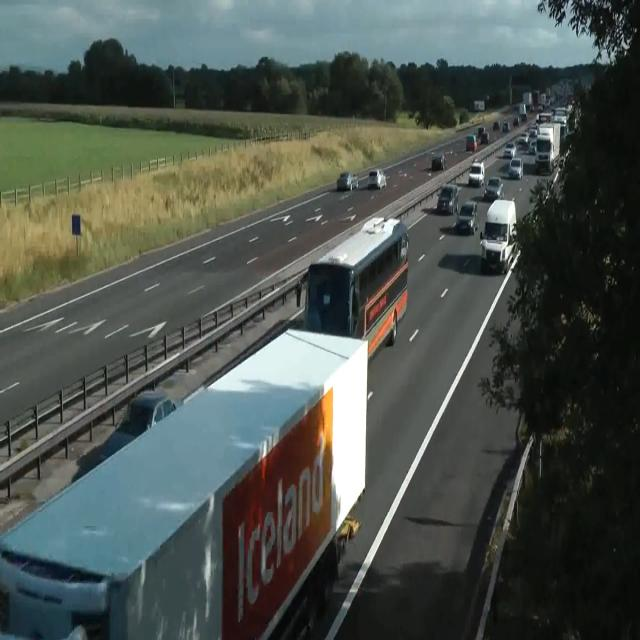bus: (71, 388, 178, 484), (336, 172, 358, 191), (368, 169, 386, 189), (432, 152, 446, 171), (528, 140, 536, 154), (502, 122, 509, 132), (493, 121, 499, 131), (513, 116, 519, 126)
car: (302, 214, 409, 362)
jeep: (479, 198, 517, 273), (534, 134, 554, 172), (456, 200, 478, 234), (437, 183, 459, 214), (482, 175, 504, 201), (468, 160, 484, 187), (507, 156, 523, 180), (503, 142, 517, 158), (465, 133, 477, 151), (478, 126, 488, 144)
minibus: (0, 325, 370, 639), (519, 102, 527, 121), (474, 100, 484, 111)
